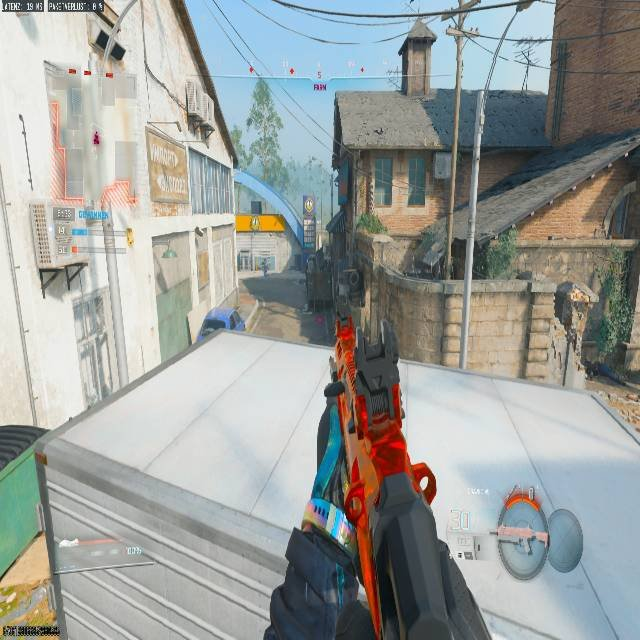player: (261, 259, 269, 279)
